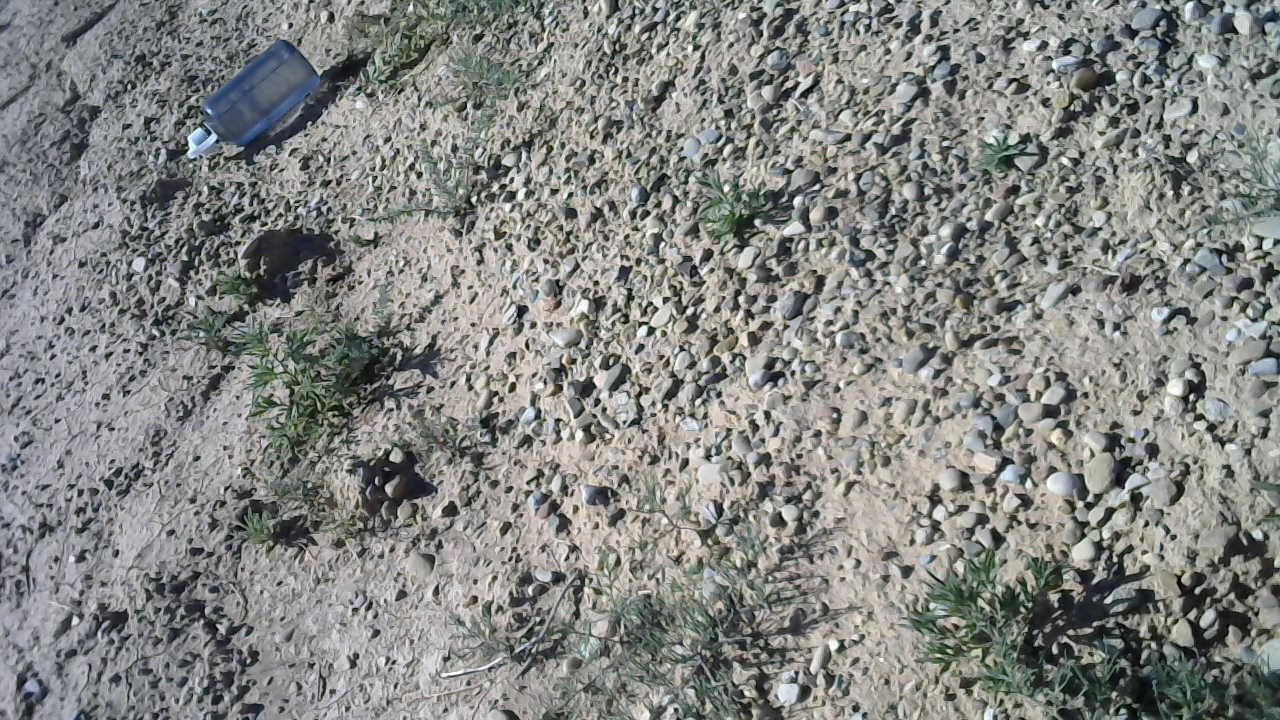bottle: (181, 38, 325, 165)
